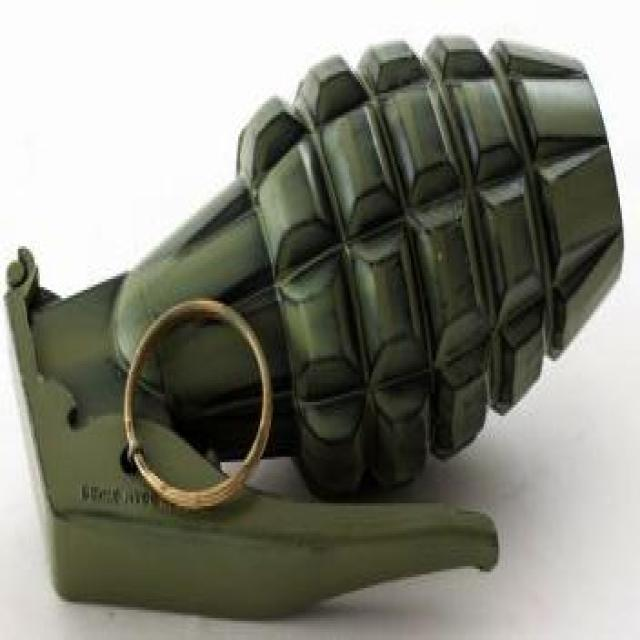grenade: (3, 37, 625, 621)
